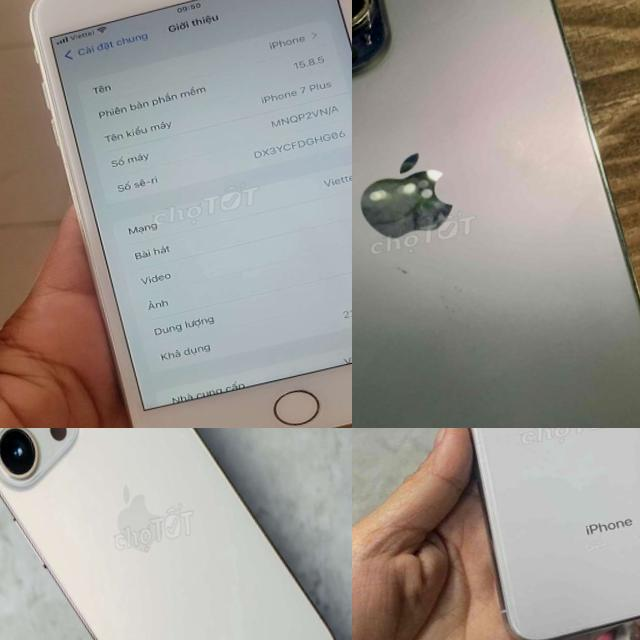gen_12_13: (0, 428, 352, 640)
gen_14: (352, 0, 640, 428)
gen_7_8: (0, 0, 352, 428)
gen_x_xs: (437, 428, 640, 640)
